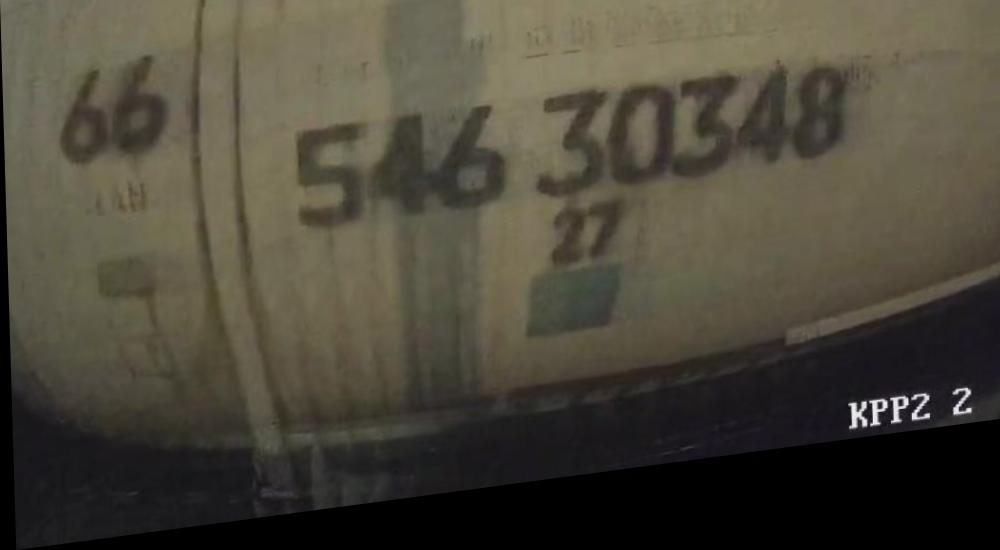Wagon-number: (287, 76, 851, 248)
